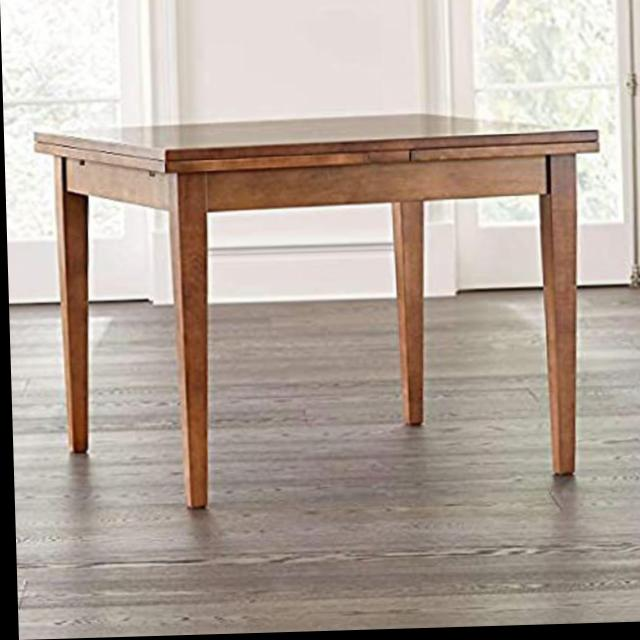Table: (25, 88, 615, 531)
